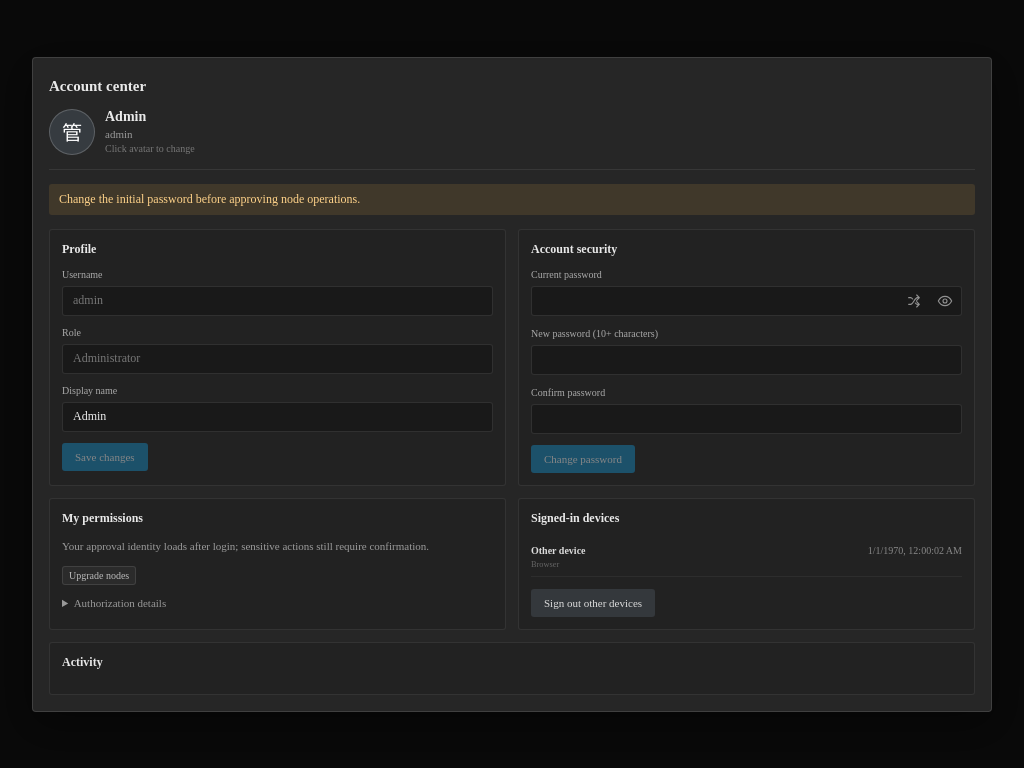
Test: revokes other sessions and reloads the device list
The image size is (1024, 768).
Step 1. Click the button "Sign out other devices" → (593, 602), box [531,588,655,616]
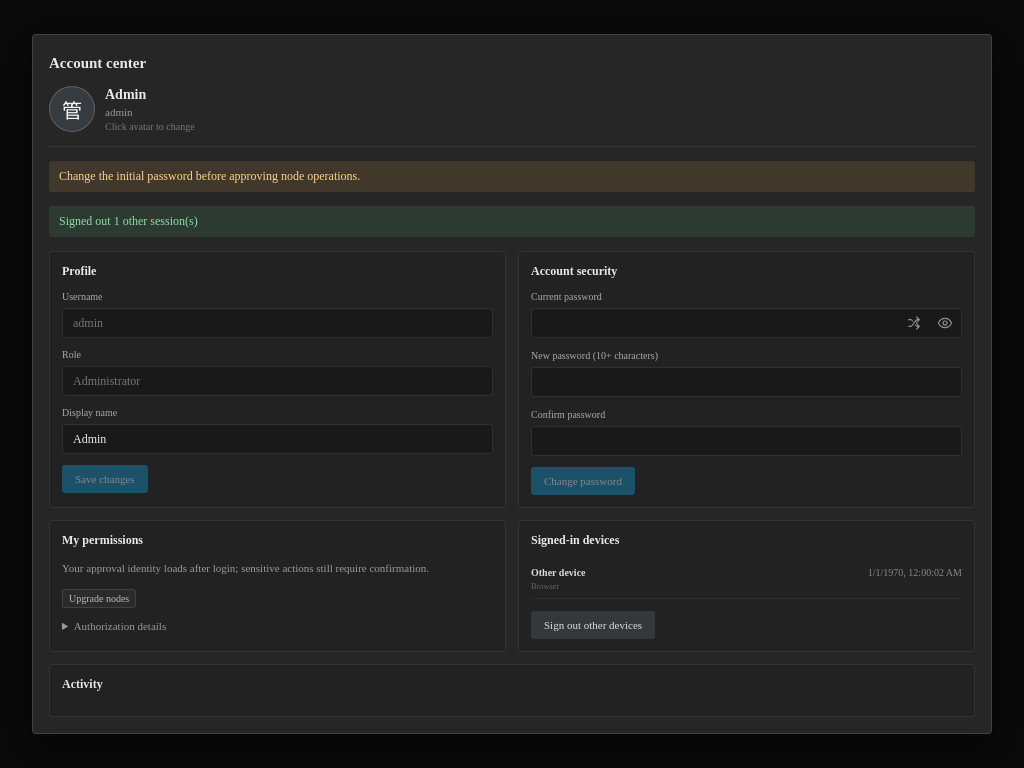
Now the text "Signed out 1 other session(s)" is shown, box [49,206,975,237]
